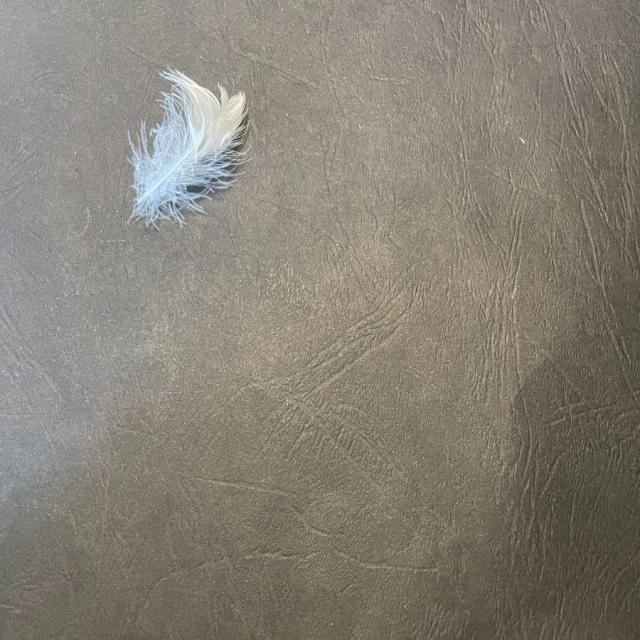feather: (125, 64, 255, 228)
